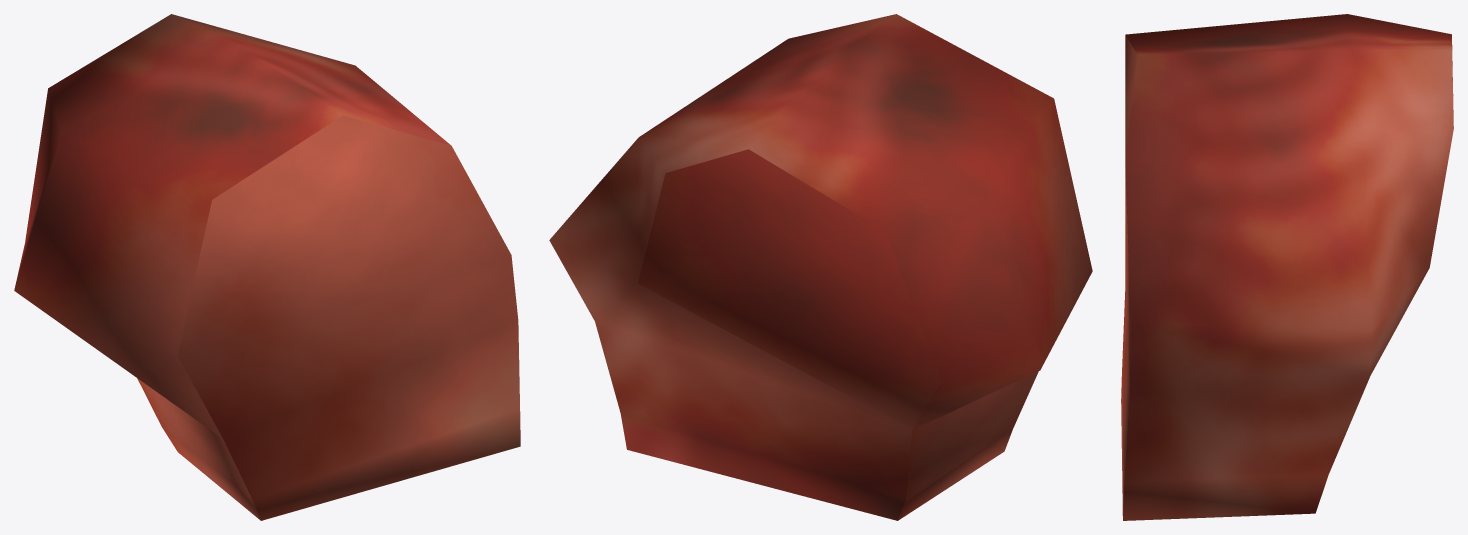
The model's file is chunk1.FBX.
The picture shows the model from 3 angles, left to right: view 1: azimuth 30°, elevation 25°; view 2: azimuth 150°, elevation 25°; view 3: azimuth 270°, elevation 25°; orthographic projection. The views are drawn at different scales.
Parts seen in each view (by area): view 1: Object004; view 2: Object004; view 3: Object004.
Part boxes in pixels (<box>): Object004: <box>14,14,520,520</box>; Object004: <box>549,14,1092,520</box>; Object004: <box>1121,14,1453,520</box>.
Bounding box in the file's own units: 5.39 × 4.54 × 3.51.
Materials: 1 (1 with a texture image).
